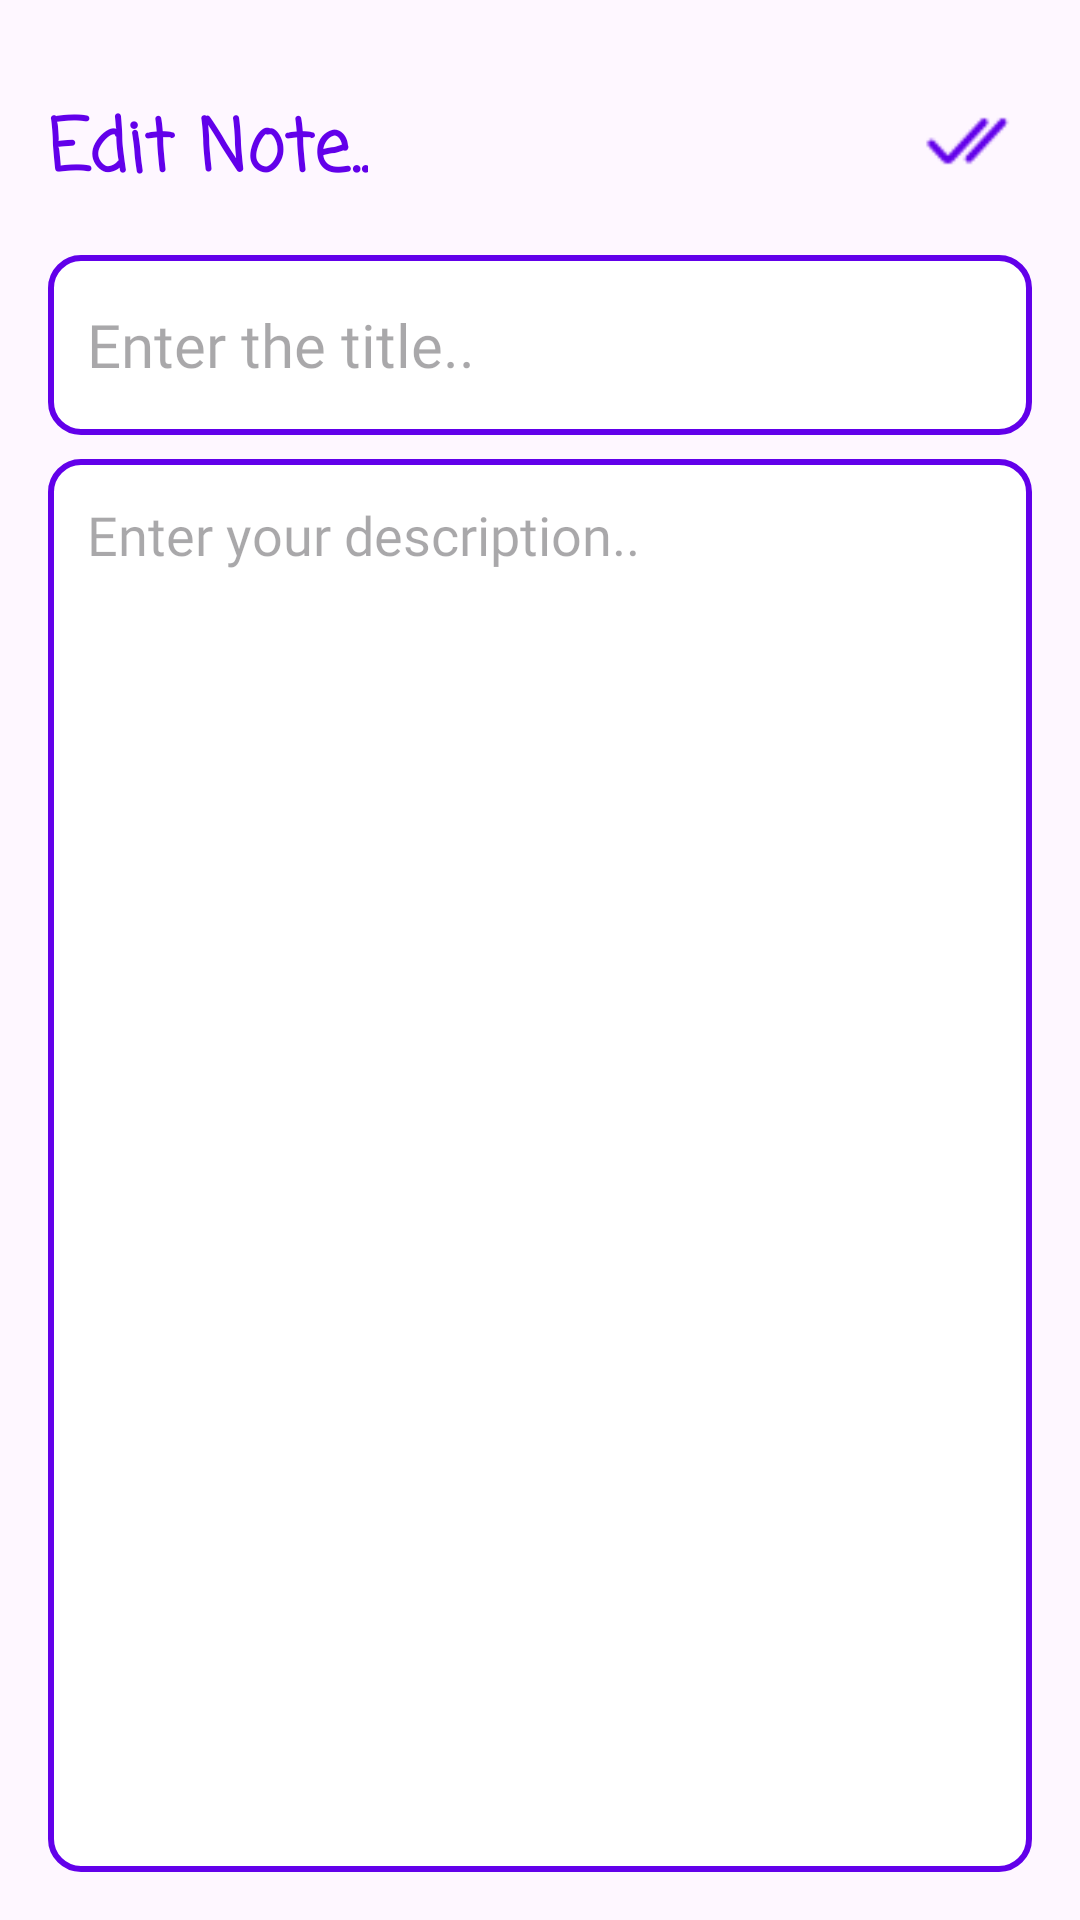

Icons on this 1080 x 1920 Android screen, each with its box as (x1, y1, x2, y2):
done: (926, 117, 1009, 165)
